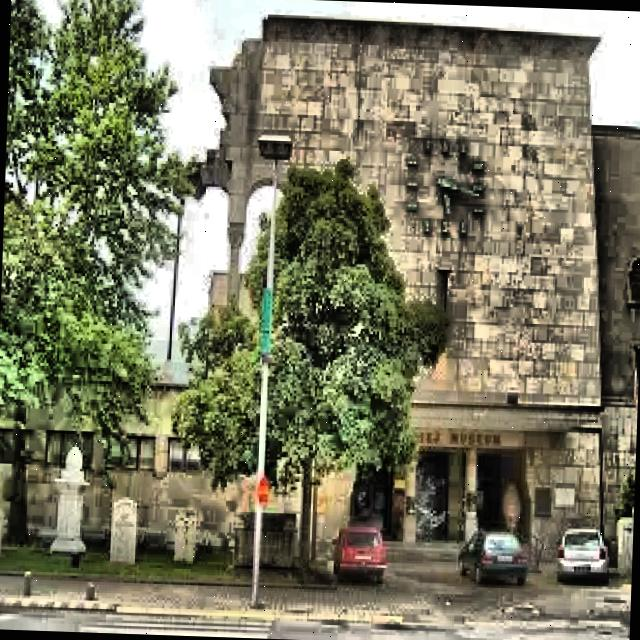old railway: (9, 5, 640, 581)
